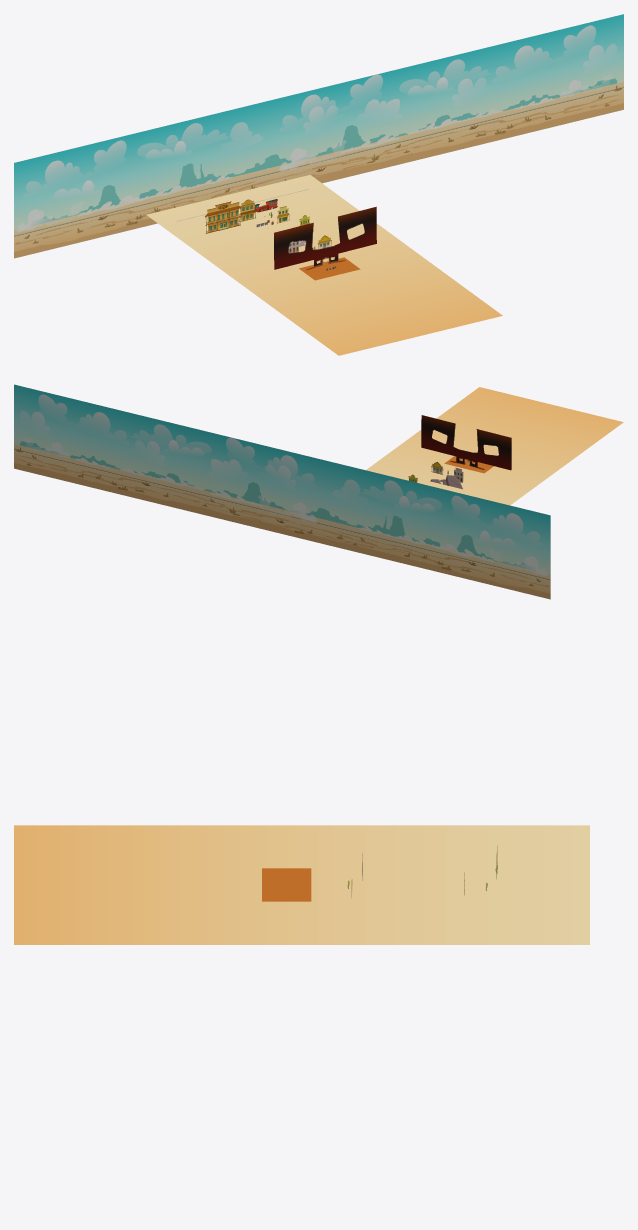
Rendered from superstage.gltf.
3 renders of one model, top to bottom at view 1: azimuth 30°, elevation 25°; view 2: azimuth 150°, elevation 25°; view 3: azimuth 270°, elevation 25°, orthographic. The views are drawn at different scales.
Visible parts, largest first — view 1: Horizon, Ground, Stage1Background.001, Hotel, Stage1Floor; view 2: Horizon, Ground, Stage1Background.001, Stage1Floor; view 3: Ground, Stage1Floor.
Part boxes in pixels (x1=…): Horizon: x1=14, y1=14, x2=623, y2=258; Ground: x1=146, y1=174, x2=502, y2=355; Stage1Background.001: x1=274, y1=206, x2=376, y2=269; Hotel: x1=205, y1=201, x2=241, y2=233; Stage1Floor: x1=299, y1=257, x2=360, y2=280; Horizon: x1=14, y1=384, x2=550, y2=599; Ground: x1=366, y1=387, x2=623, y2=505; Stage1Background.001: x1=421, y1=415, x2=511, y2=470; Stage1Floor: x1=444, y1=456, x2=493, y2=473; Ground: x1=14, y1=825, x2=589, y2=944; Stage1Floor: x1=262, y1=868, x2=311, y2=901.
Bounding box in the file's own units: 206 × 30.86 × 119.
39 materials, 38 textured.
